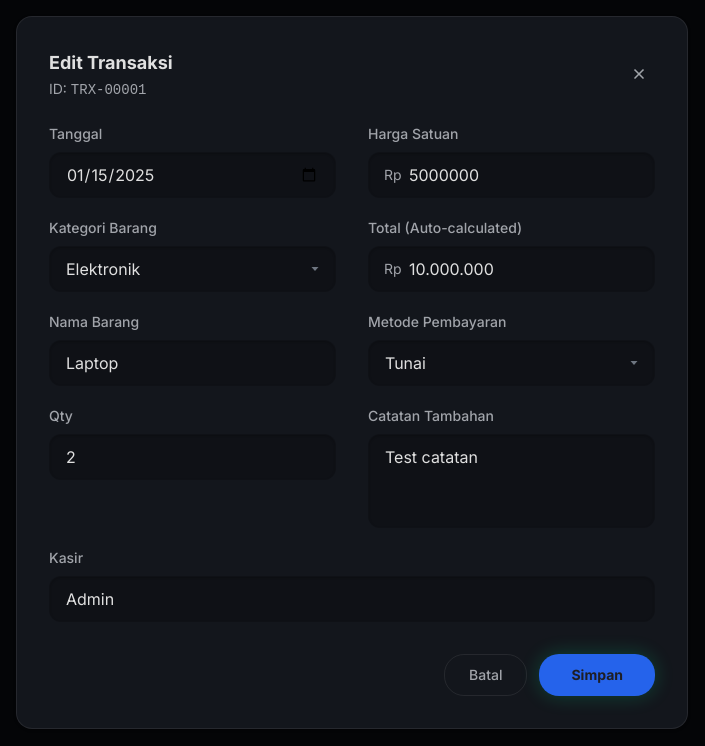
Test: Task 9 — Unit Tests: EditTransactionModal › 9.5: tombol Simpan disabled ketika namaBarang kosong setelah submit
The image size is (705, 746).
# Kosongkan namaBarang
Clear the field with id "edit-namaBarang" at point(192, 362), box [49,340,336,386]
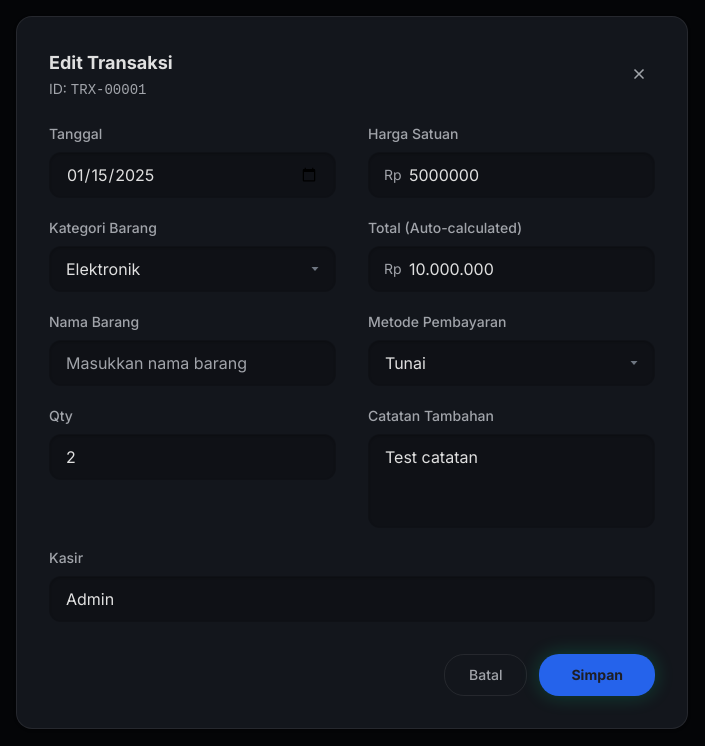
# Submit form untuk trigger validasi
Submit the form with id "form-edit-transaksi"
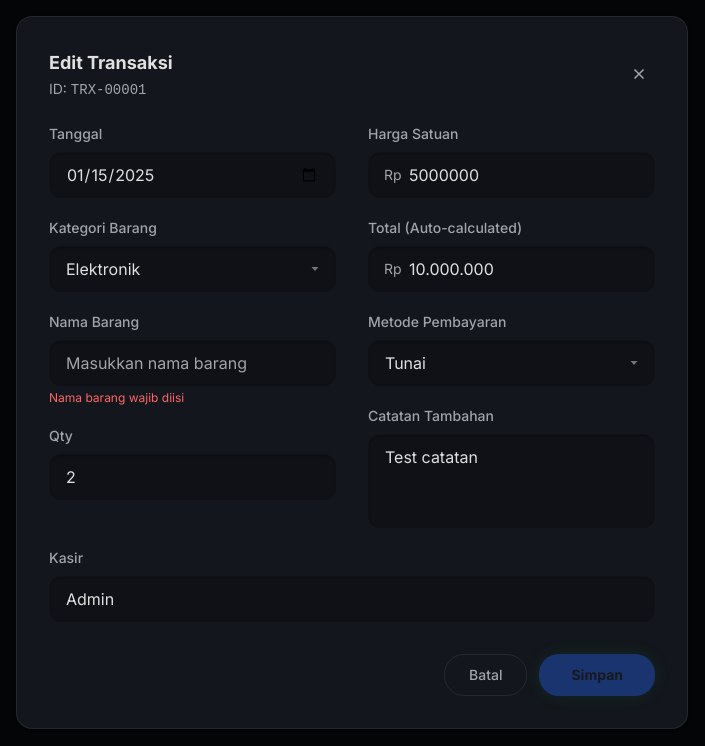
Check: the button "Simpan" is disabled, box [540,654,655,696]
